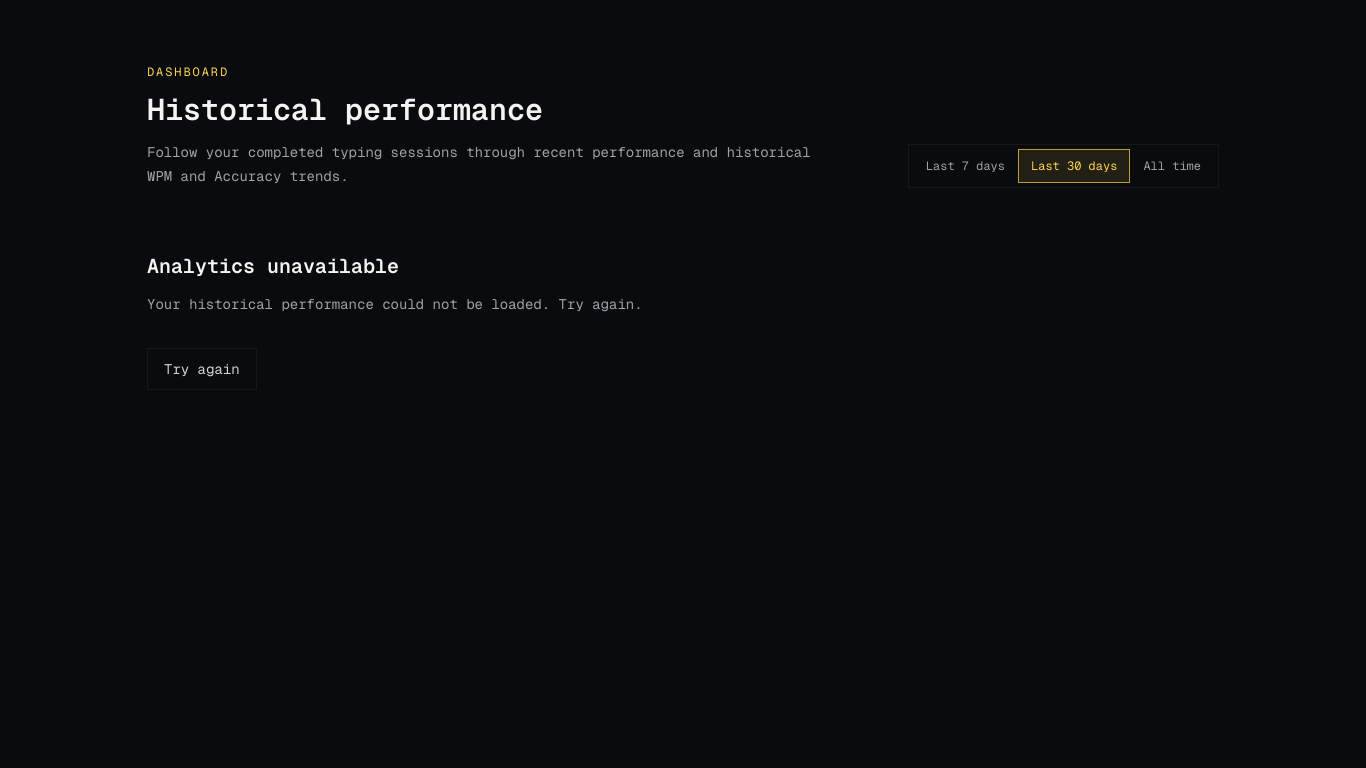
HistoricalDashboard › renders a recoverable error state and retries the request
The image size is (1366, 768).
Expected: the message shows "Analytics unavailable", [147,253,399,279]
Click the button "Try again". click: {"x": 202, "y": 369}
box: [147,348,257,390]
(page scrolled)
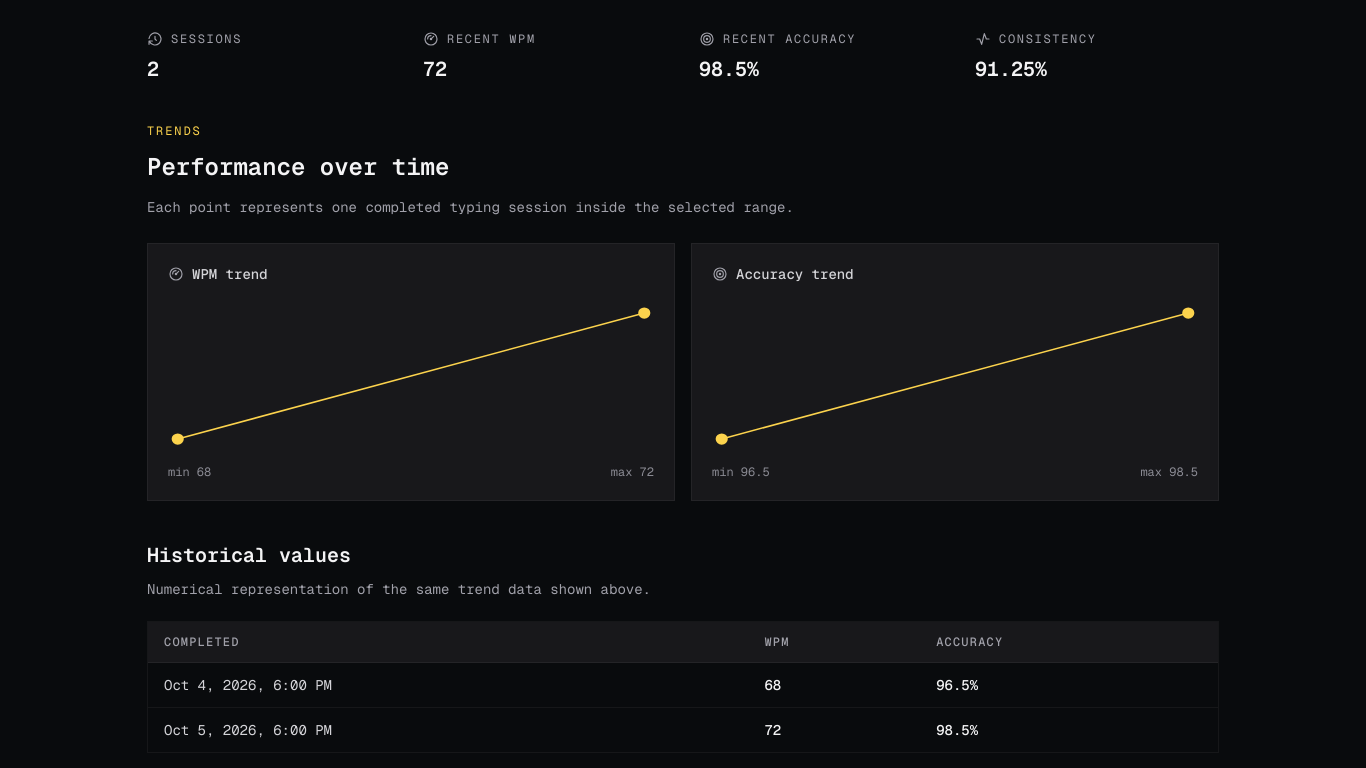
Expected: the element with test id "dashboard-data" is shown
